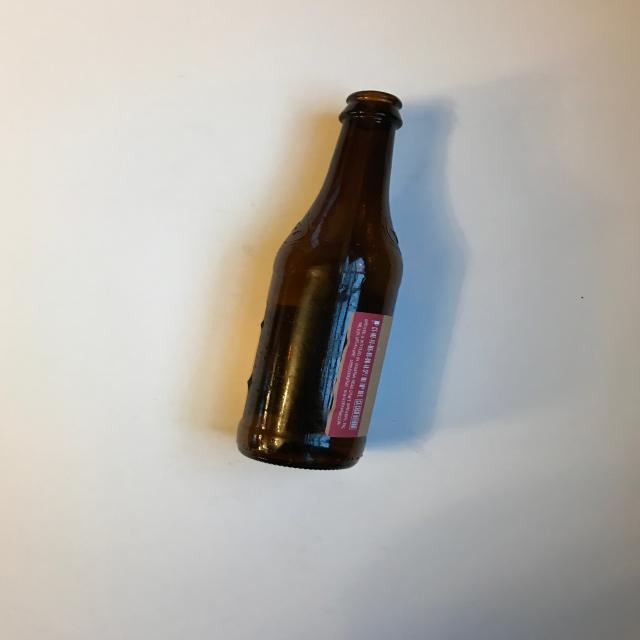glass: (236, 89, 404, 470)
